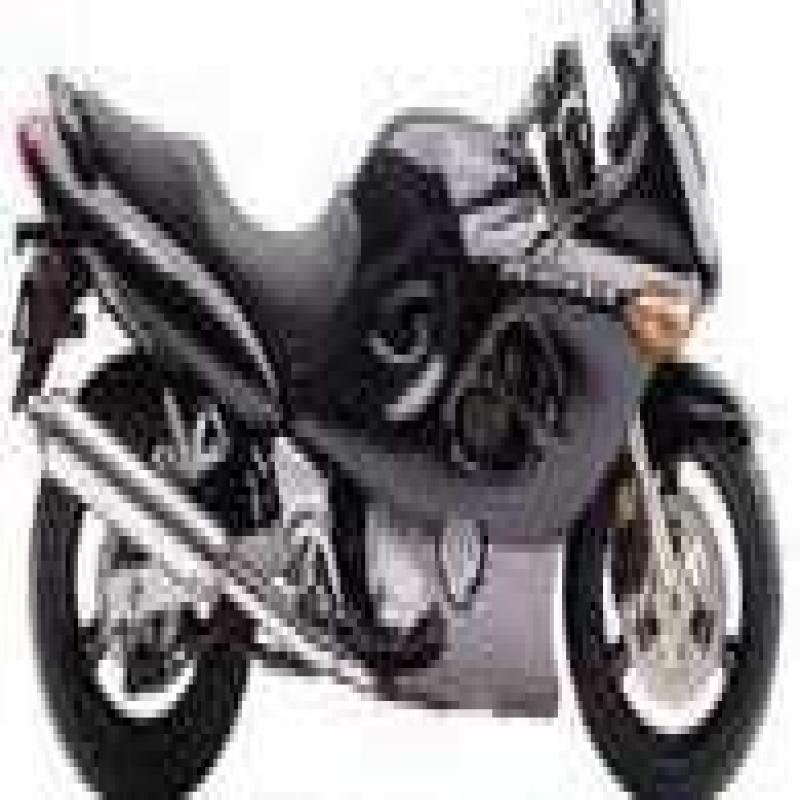bike: (6, 15, 785, 800)
